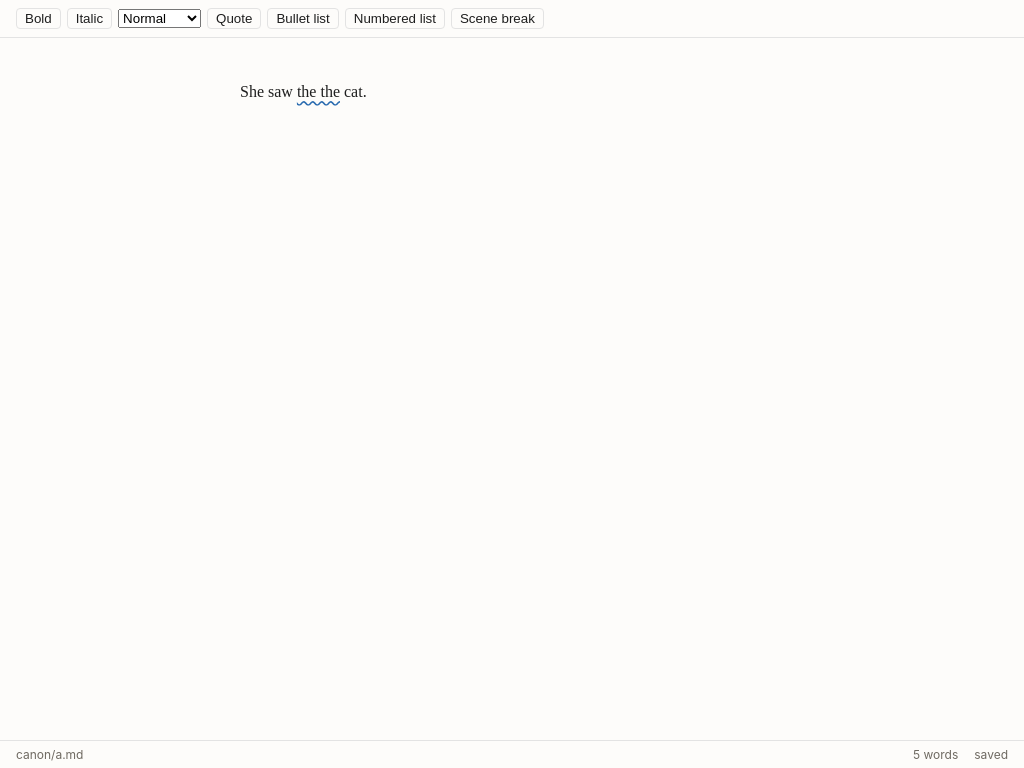
Ignore removes the underline
Click the text box with class "cb-grammar" at point(318, 92), box [297, 83, 340, 100]
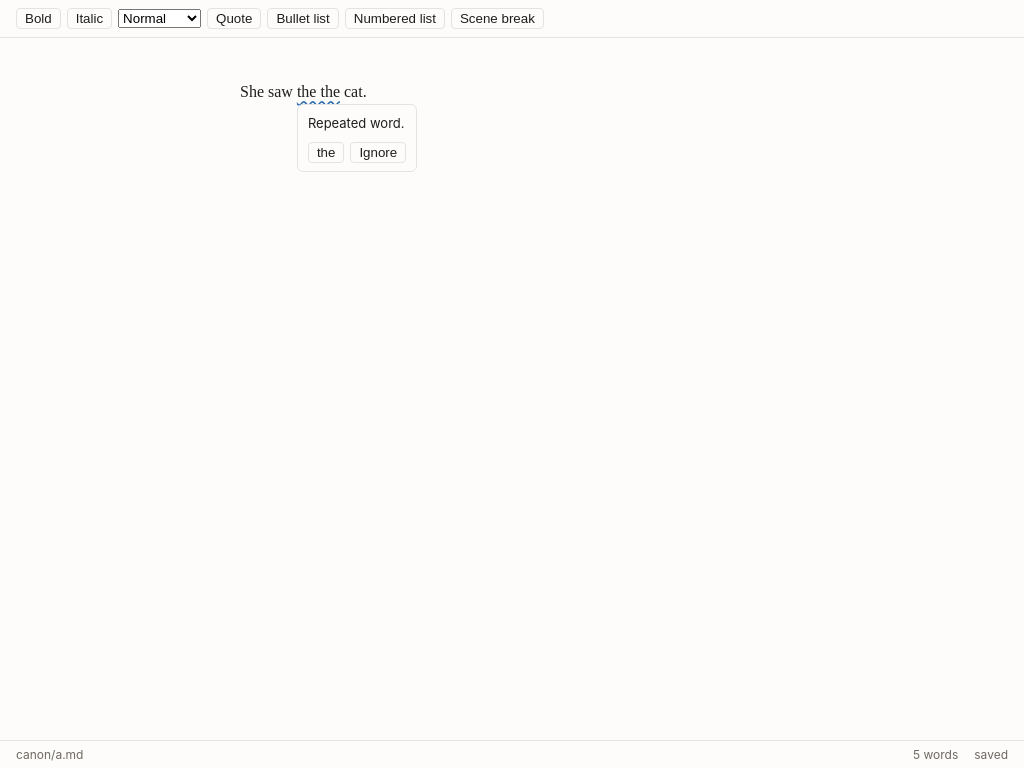
Click the button "Ignore" at point(378, 152), box [350, 142, 406, 163]
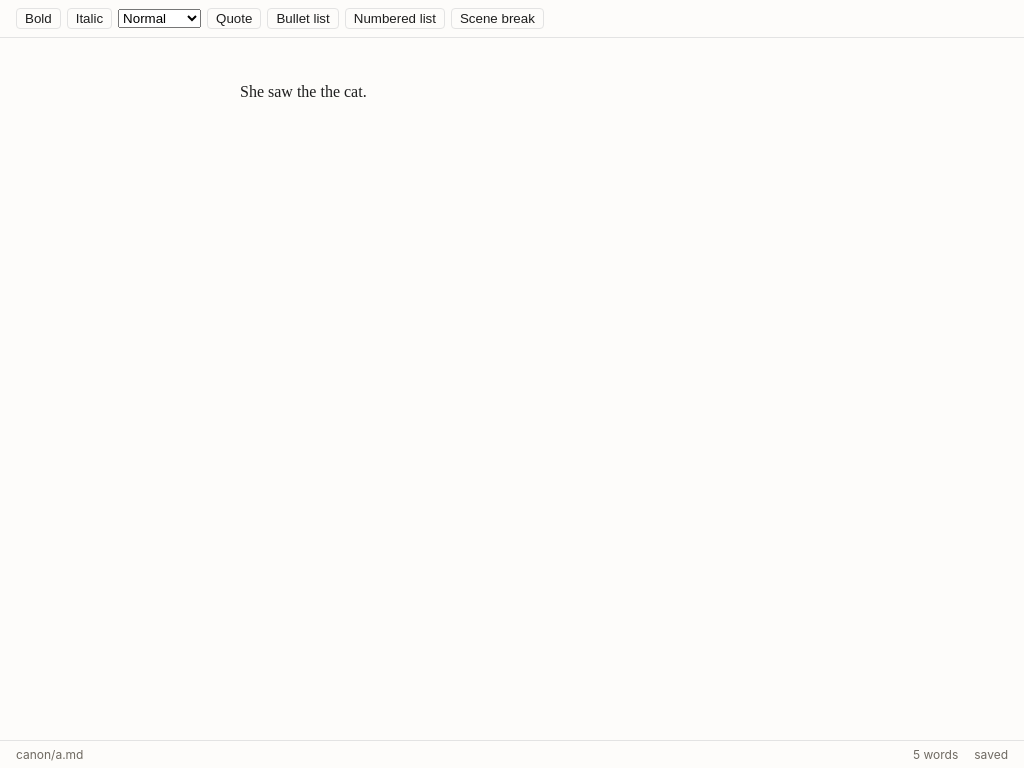
Result: the dialog is gone
